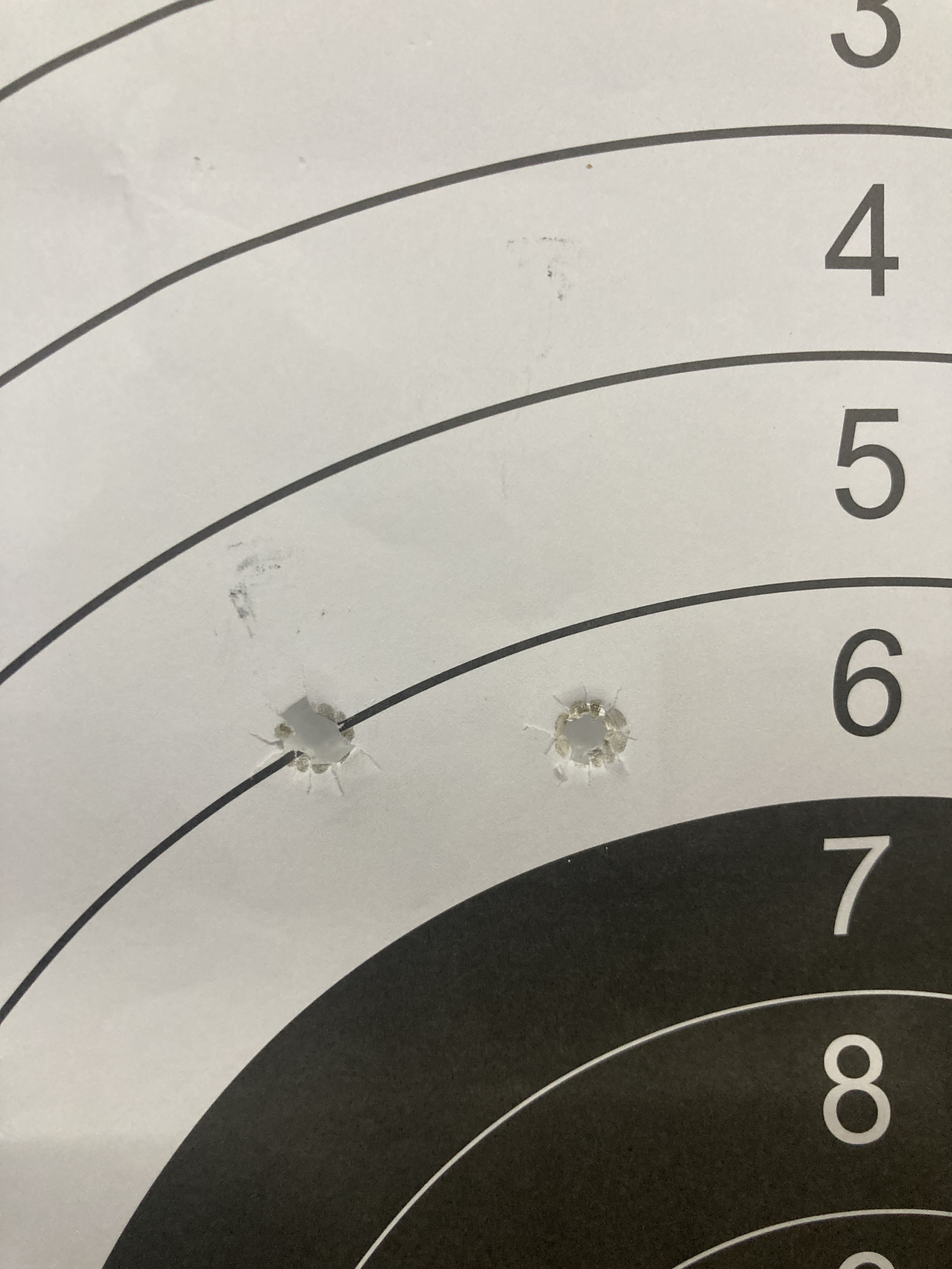hole: (526, 651, 645, 799), (261, 674, 384, 812)
